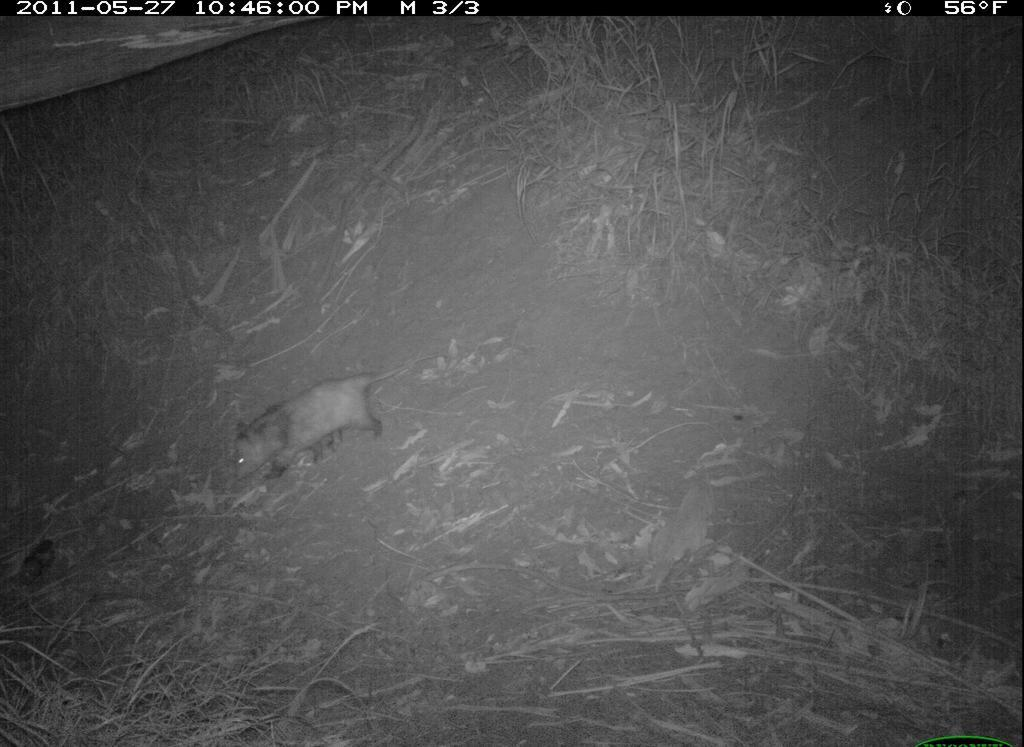opossum: (217, 360, 410, 506)
